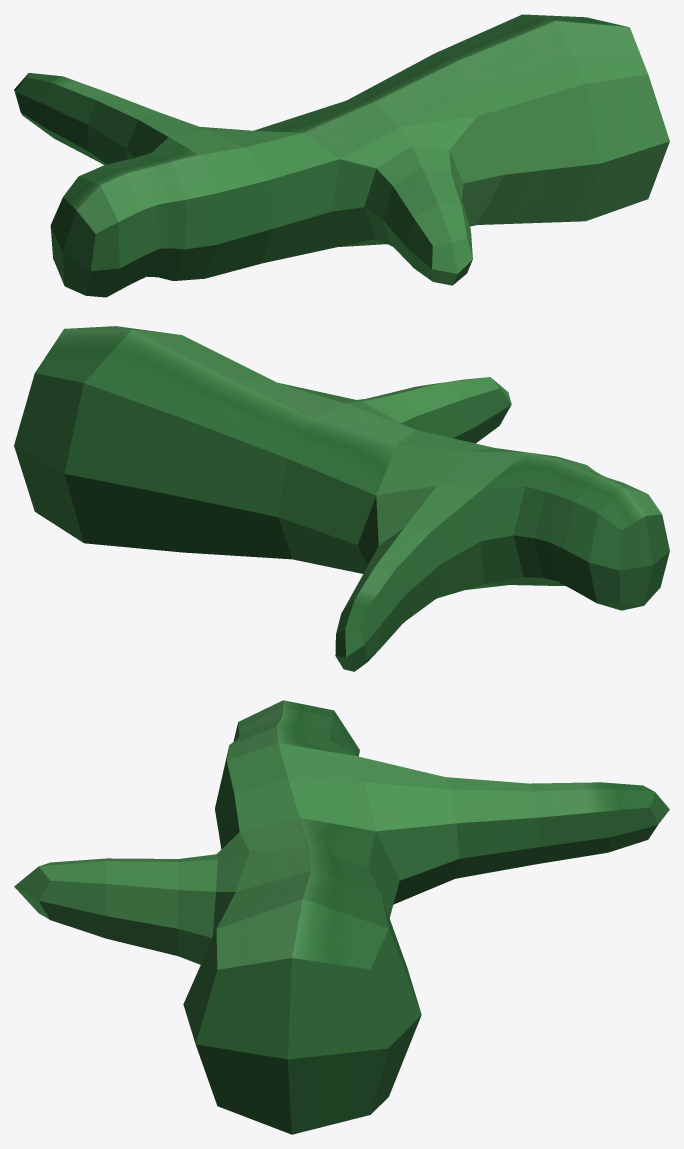
The model's file is tronco caido2.fbx.
3 renders of one model, top to bottom at view 1: azimuth 30°, elevation 25°; view 2: azimuth 150°, elevation 25°; view 3: azimuth 270°, elevation 25°, orthographic. The views are drawn at different scales.
Visible parts, largest first — view 1: Cube.002; view 2: Cube.002; view 3: Cube.002.
Part boxes in pixels (x1=…): Cube.002: x1=14, y1=14, x2=669, y2=297; Cube.002: x1=14, y1=326, x2=669, y2=671; Cube.002: x1=14, y1=700, x2=669, y2=1134.
Bounding box in the file's own units: 284 × 92.4 × 249.
